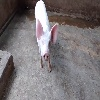heo: (32, 1, 59, 73)
